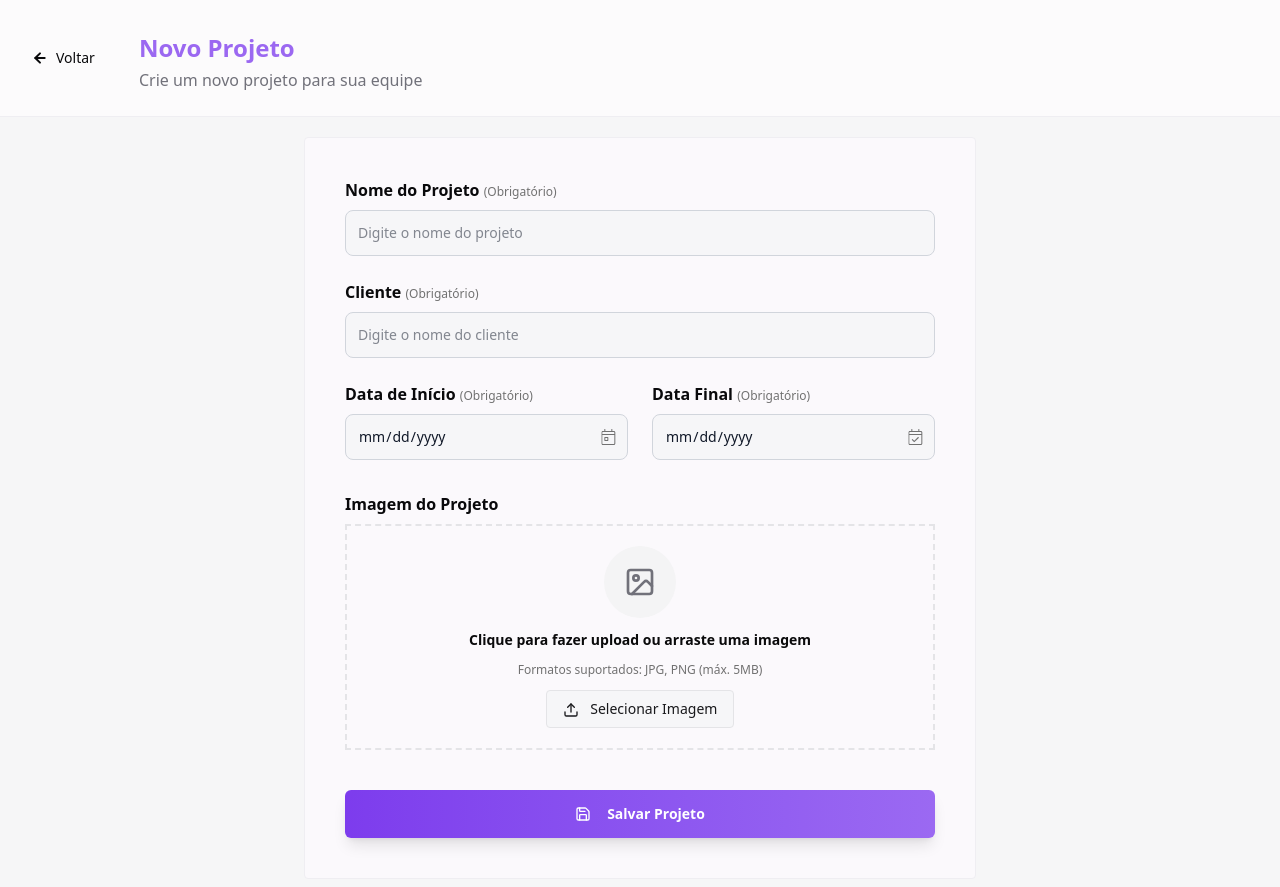
Test case: ProjectFormView › valida datas corretamente
In the date field with id "startDate": point(486, 437) [345,414,628,460], type "2024-02-01"
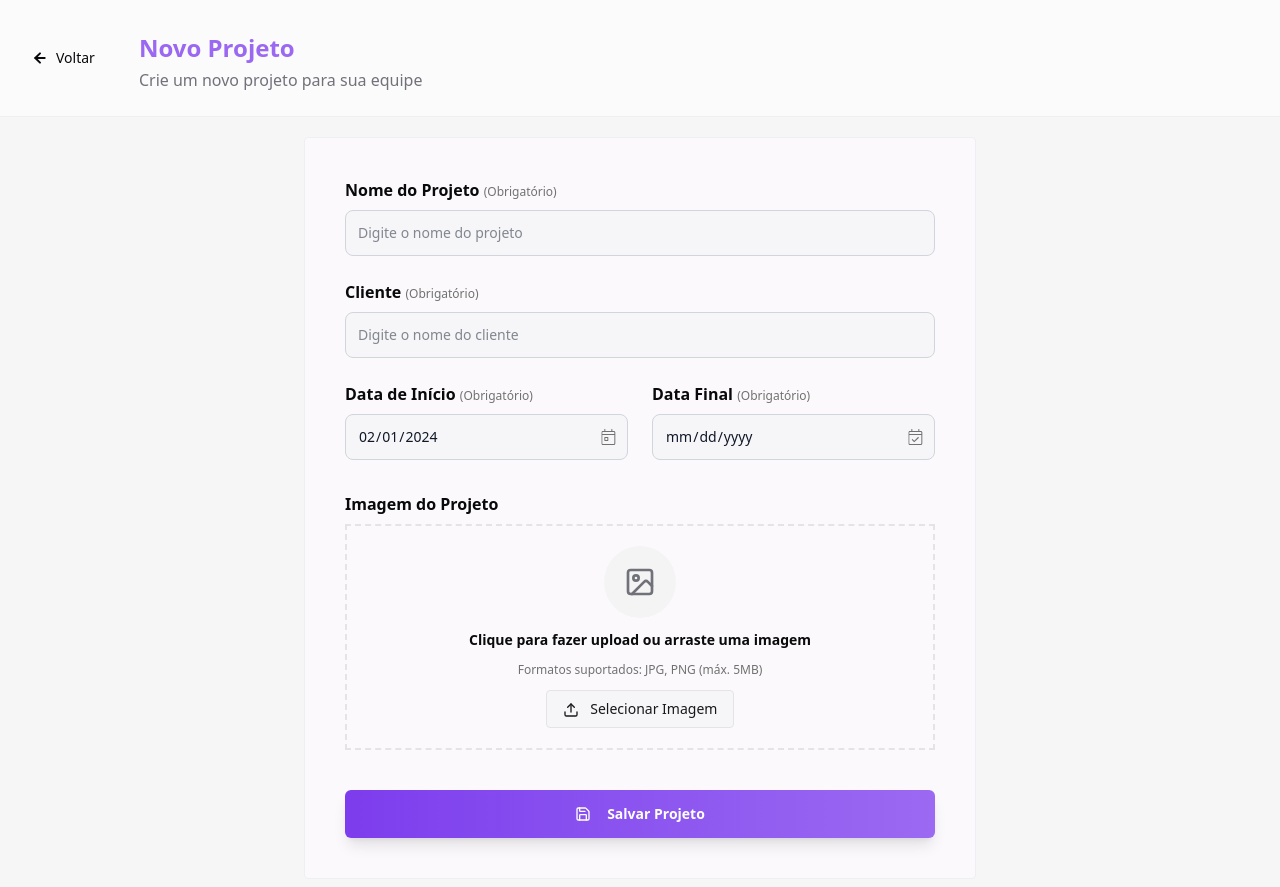
In the date field with id "endDate": point(794, 437) [652,414,935,460], type "2024-01-01"
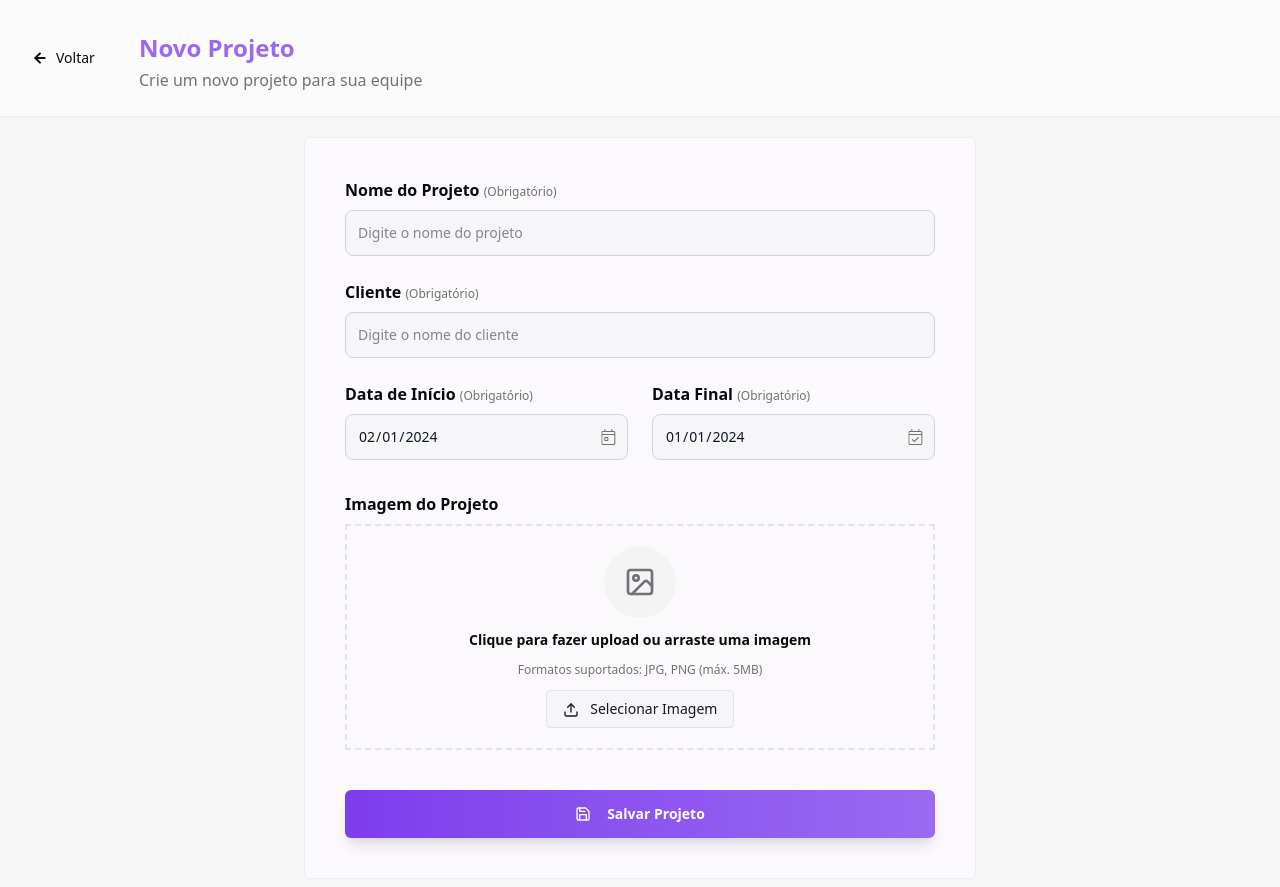
Submit the form, box [304,137,976,879]
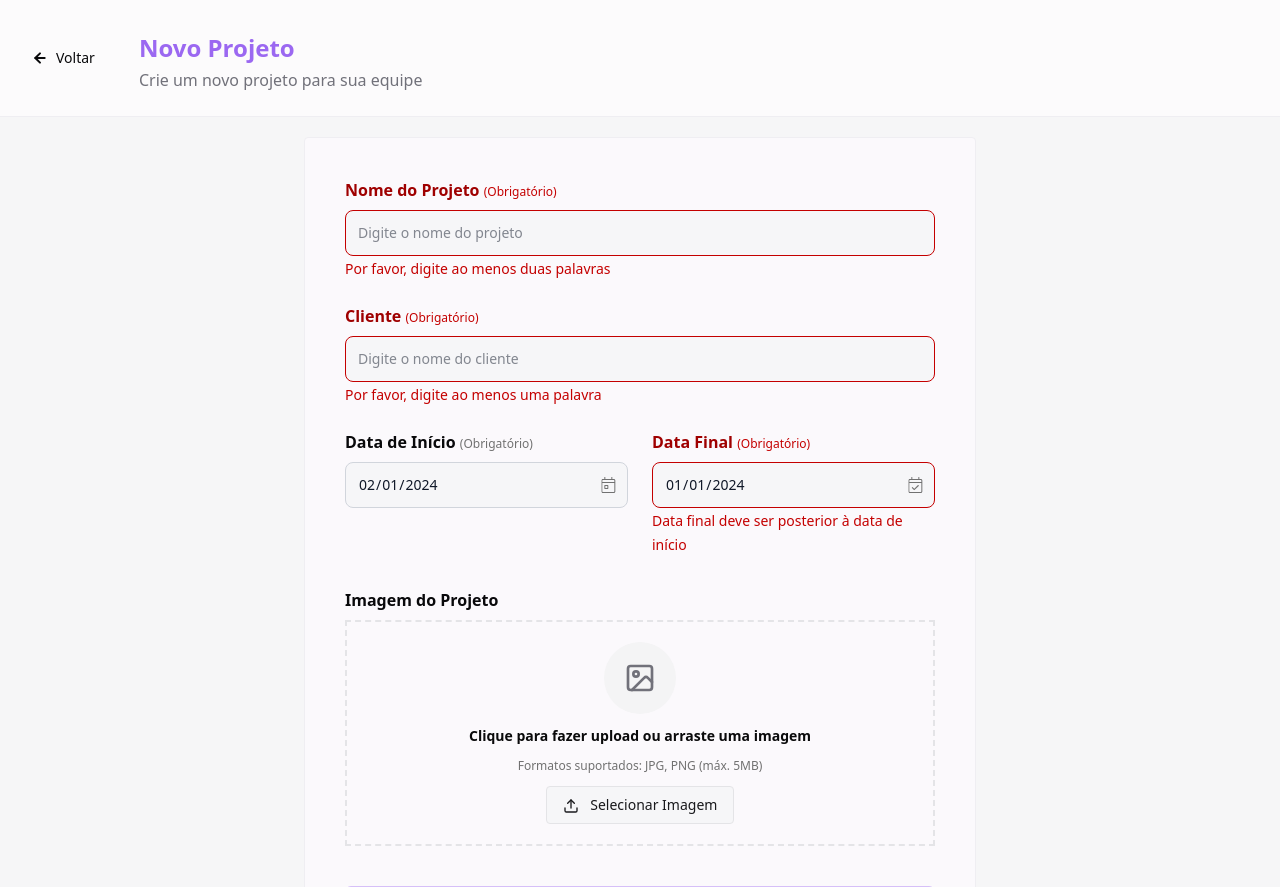
Check: the text "Data final deve ser posterior à data de início" is shown, box [652,511,903,554]
